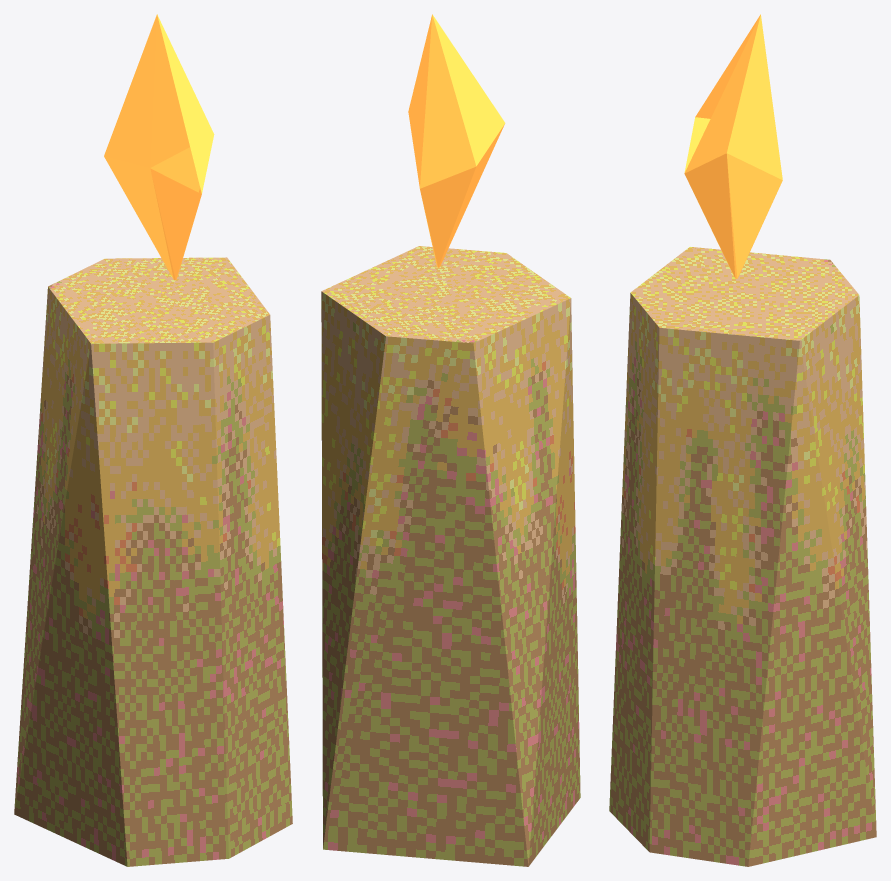
File: shortcandle.glb
3 renders of one model, left to right at view 1: azimuth 30°, elevation 25°; view 2: azimuth 150°, elevation 25°; view 3: azimuth 270°, elevation 25°, orthographic. The views are drawn at different scales.
Parts seen in each view (by area): view 1: candle1, flame1; view 2: candle1, flame1; view 3: candle1, flame1.
Boxes of the visible parts, x1,y1,x2,y2 form: candle1: (14, 257, 292, 866); flame1: (104, 14, 214, 280); candle1: (321, 246, 580, 866); flame1: (408, 14, 505, 267); candle1: (609, 247, 876, 866); flame1: (684, 14, 782, 278).
Size of the model in its own units: 0.5411 by 1.78 by 0.5411.
Materials: 3 (1 with a texture image).
